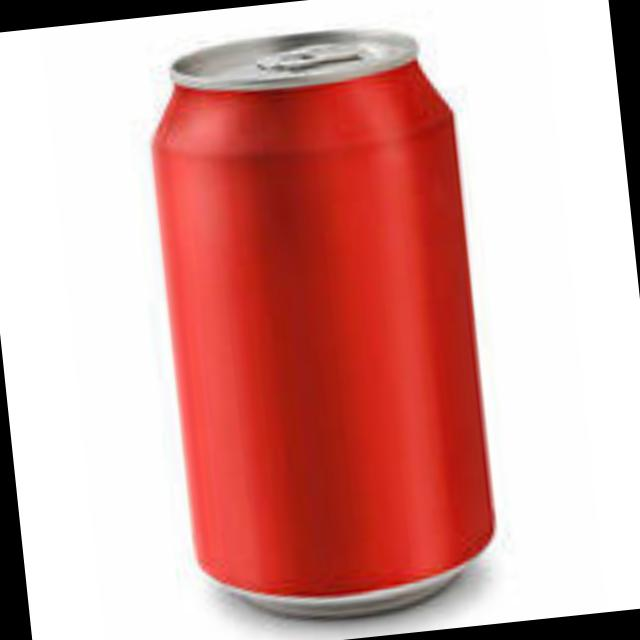metal: (158, 24, 496, 609)
